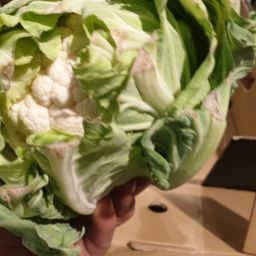Cauliflower: (2, 2, 234, 256), (10, 26, 147, 204)
